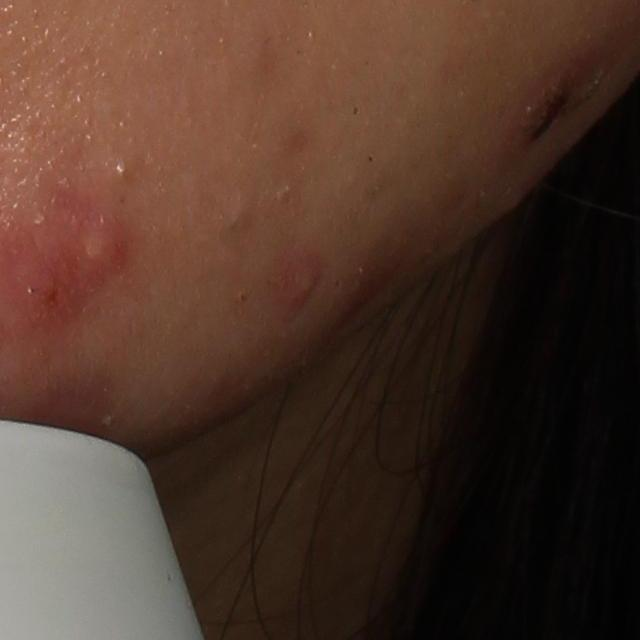comedo: (221, 193, 254, 240), (110, 156, 137, 182)
papule: (13, 257, 67, 319), (281, 259, 324, 313), (80, 220, 122, 273)
